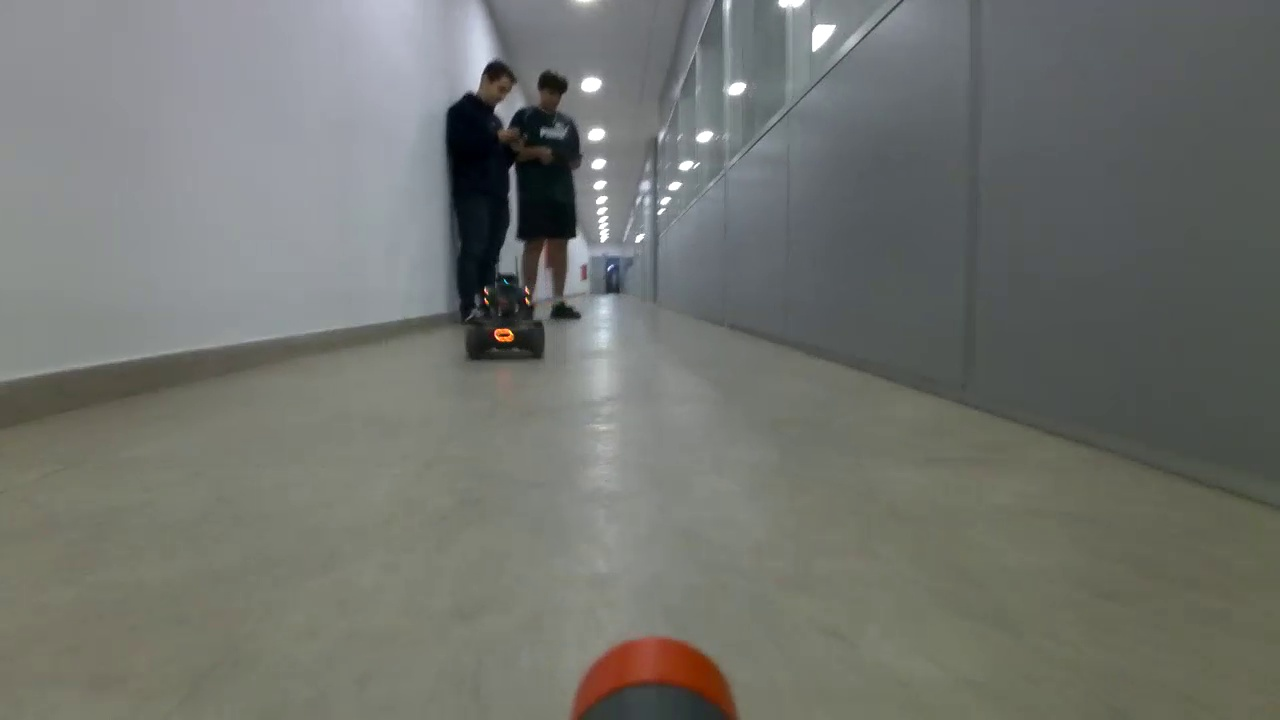robot: (465, 271, 546, 359)
